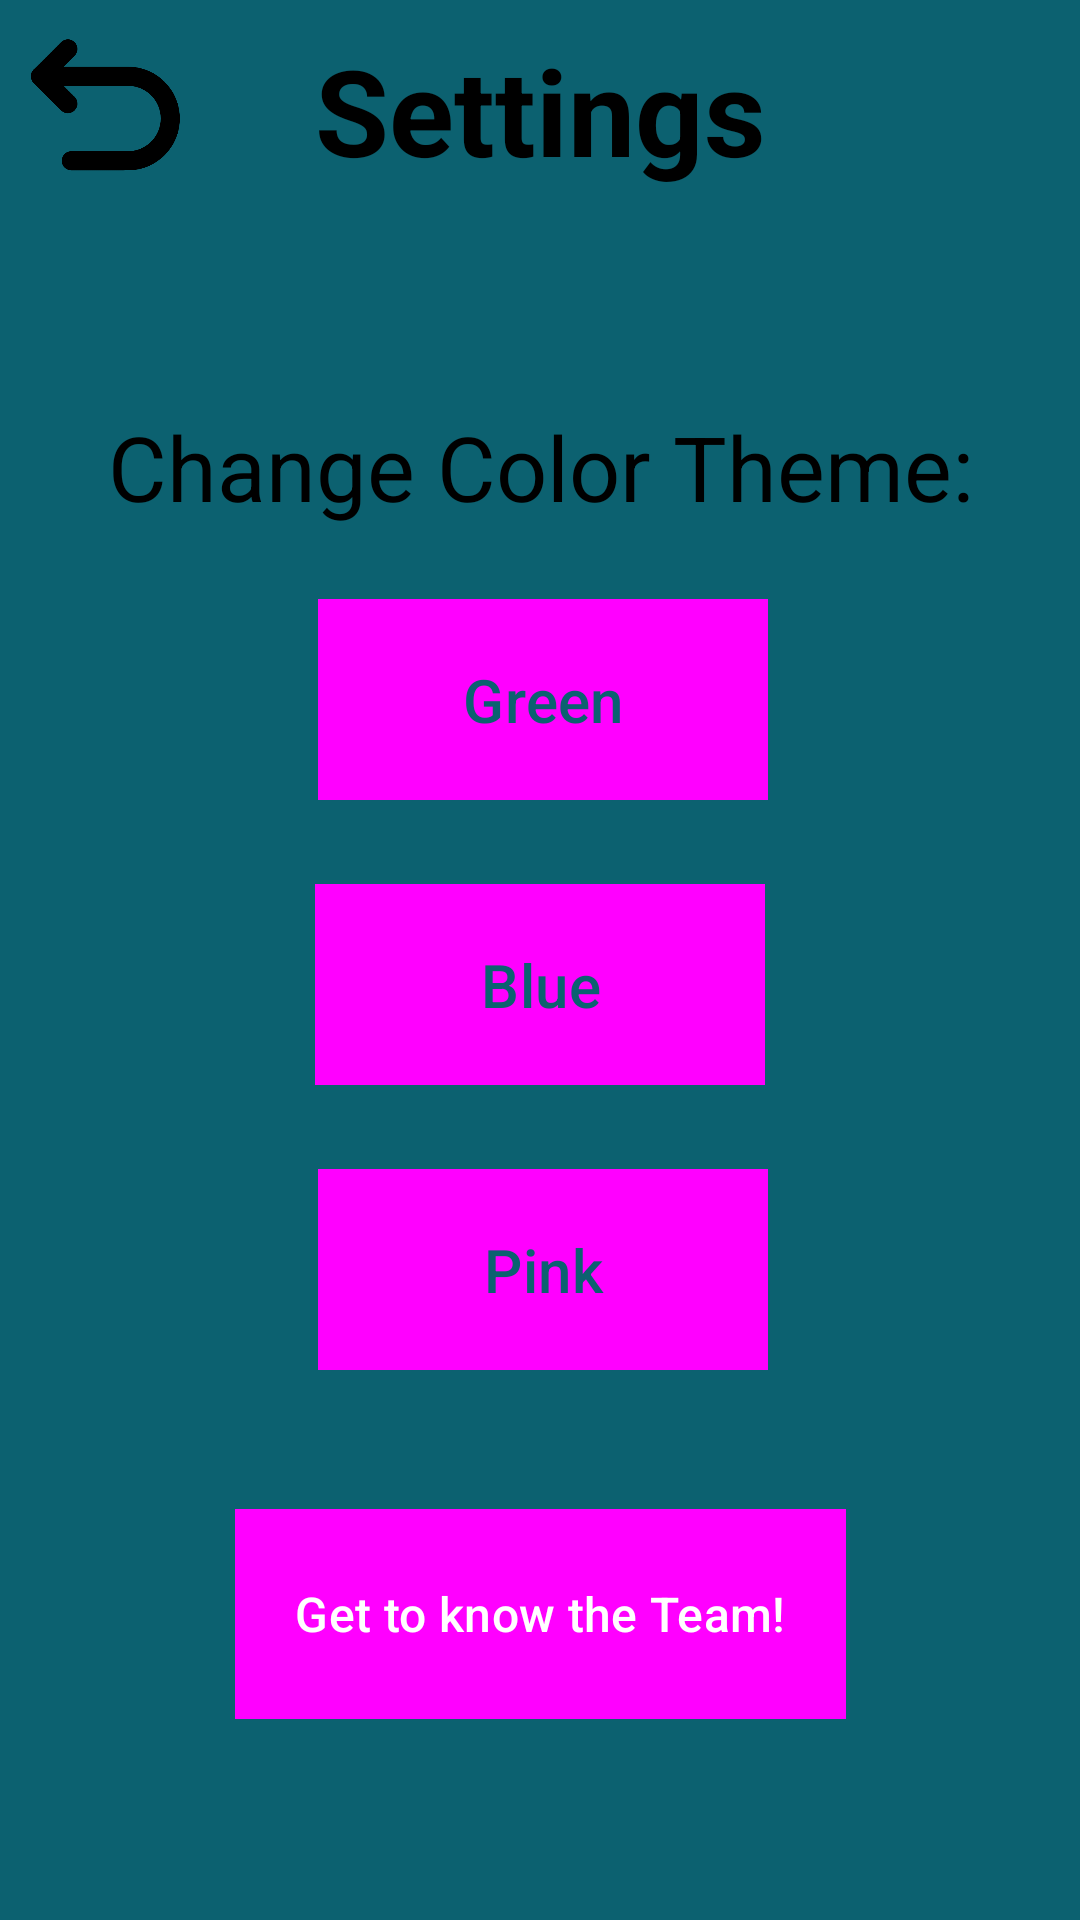

Named icons in this screenshot (1080 x 1920) and their centers, (x,y):
backarrow: (105,105)
